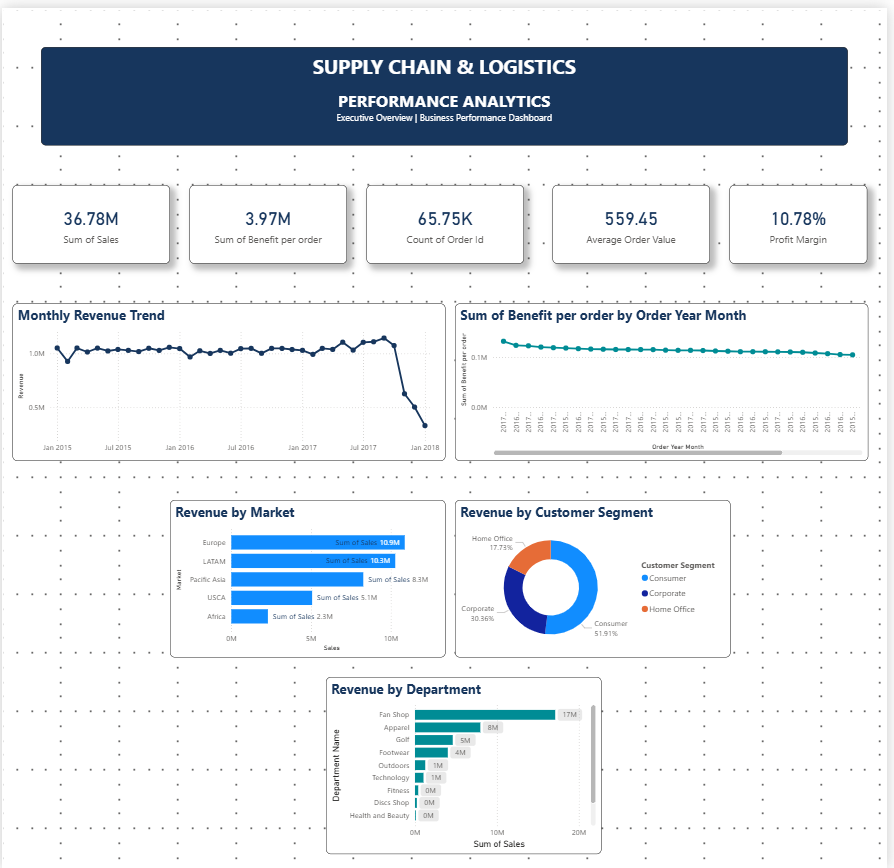

This screenshot's page, from the dashboard's own definition file:
{"tool":"powerbi","page":{"name":"Executive Overview","canvas":[1440,1400],"ordinal":0},"visuals":[{"type":"textbox","box":[64,64,1312,160],"z":0},{"type":"card","fields":{"Values":["Sum(public supply_chain.Benefit per order)"]},"box":[304,288,256,128],"z":1000},{"type":"card","fields":{"Values":["public supply_chain.Profit Margin"]},"box":[1184,288,224,128],"z":2000},{"type":"card","fields":{"Values":["public supply_chain.Average Order Value"]},"box":[896,288,256,128],"z":3000},{"type":"card","fields":{"Values":["Sum(public supply_chain.Sales)"]},"box":[16,288,256,128],"z":4000},{"type":"card","fields":{"Values":["Count(public supply_chain.Order Id)"]},"box":[592,288,256,128],"z":5000},{"type":"lineChart","title":"Monthly Revenue Trend","fields":{"Y":["Sum(public supply_chain.Sales)"],"Category":["public supply_chain.order date (DateOrders).Variation.Date Hierarchy.Year","public supply_chain.order date (DateOrders).Variation.Date Hierarchy.Month"]},"box":[16,480,704,256],"z":6000},{"type":"lineChart","fields":{"Category":["public supply_chain.Order Year Month"],"Y":["Sum(public supply_chain.Benefit per order)"]},"box":[736,480,672,256],"z":7000},{"type":"clusteredBarChart","title":"Revenue by Market","fields":{"Y":["Sum(public supply_chain.Sales)"],"Category":["public supply_chain.Market"]},"box":[272,800,448,256],"z":8000},{"type":"donutChart","title":"Revenue by Customer Segment","fields":{"Category":["public supply_chain.Customer Segment"],"Y":["Sum(public supply_chain.Sales)"]},"box":[736,800,448,256],"z":9000},{"type":"clusteredBarChart","title":"Revenue by Department","fields":{"Category":["public supply_chain.Department Name"],"Y":["Sum(public supply_chain.Sales)"]},"box":[528,1088,448,288],"z":10000}]}

Visuals, with their boxes in screenshot pixels (x1, y1, x2, y2), scaled from the page's 1440x1400 canvas onto the 894x868 screenshot:
textbox: {"x1": 40, "y1": 40, "x2": 854, "y2": 139}
card - Sum(public supply_chain.Benefit per order): {"x1": 189, "y1": 179, "x2": 348, "y2": 258}
card - public supply_chain.Profit Margin: {"x1": 735, "y1": 179, "x2": 874, "y2": 258}
card - public supply_chain.Average Order Value: {"x1": 556, "y1": 179, "x2": 715, "y2": 258}
card - Sum(public supply_chain.Sales): {"x1": 10, "y1": 179, "x2": 169, "y2": 258}
card - Count(public supply_chain.Order Id): {"x1": 368, "y1": 179, "x2": 526, "y2": 258}
"Monthly Revenue Trend" lineChart: {"x1": 10, "y1": 298, "x2": 447, "y2": 456}
lineChart - public supply_chain.Order Year Month x Sum(public supply_chain.Benefit per order): {"x1": 457, "y1": 298, "x2": 874, "y2": 456}
"Revenue by Market" clusteredBarChart: {"x1": 169, "y1": 496, "x2": 447, "y2": 655}
"Revenue by Customer Segment" donutChart: {"x1": 457, "y1": 496, "x2": 735, "y2": 655}
"Revenue by Department" clusteredBarChart: {"x1": 328, "y1": 675, "x2": 606, "y2": 853}
